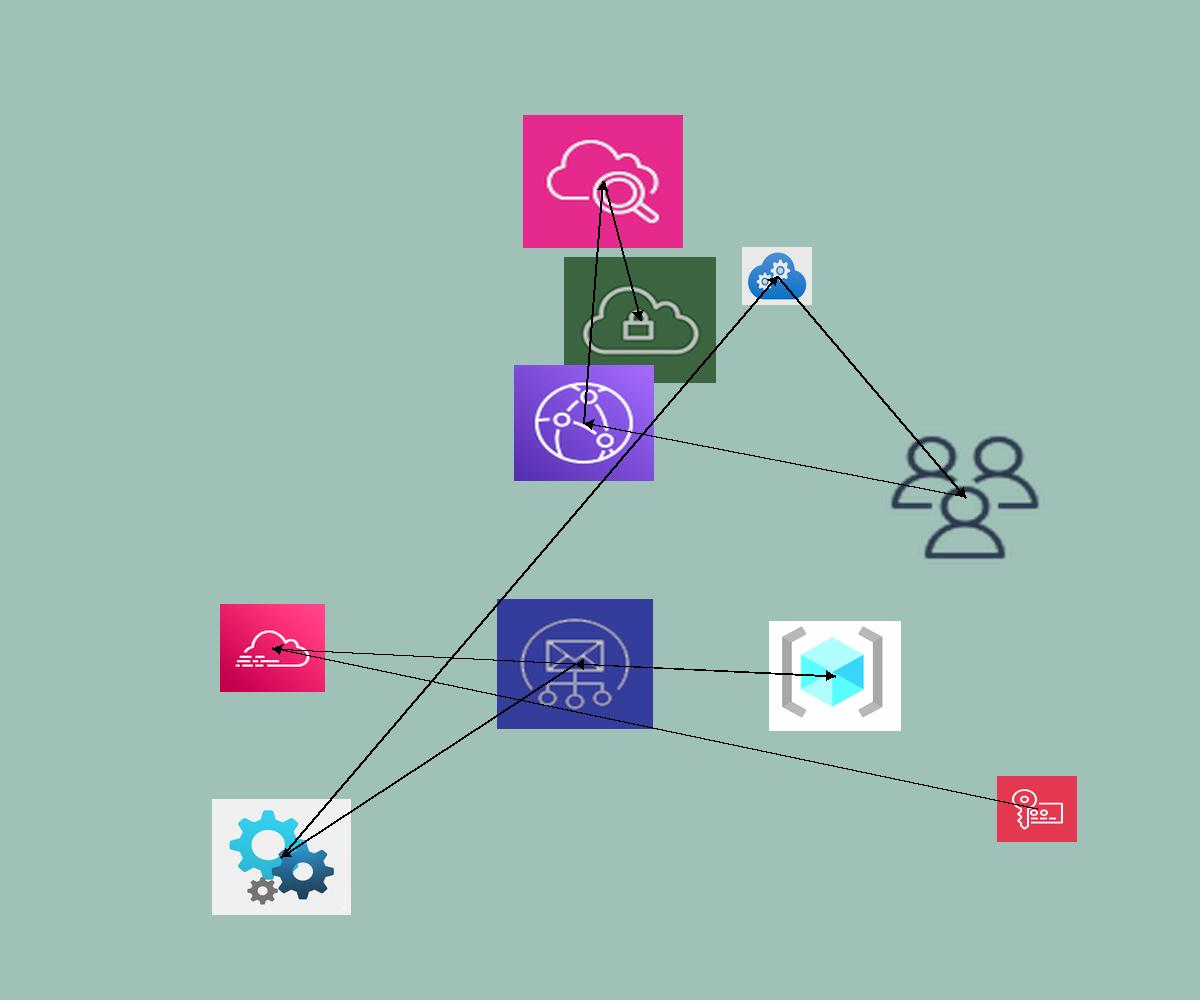AWS-CloudFront: (514, 365, 654, 481)
AWS-CloudTrail: (220, 604, 325, 692)
AWS-CloudWatch: (523, 115, 683, 248)
AWS-Key-Management-Service: (997, 776, 1077, 842)
AWS-Private_vpc: (564, 257, 716, 383)
AWS-Res_Users: (885, 431, 1045, 564)
AWS-Simple-Email-Service: (497, 599, 653, 729)
Azure_api: (212, 799, 351, 915)
Azure_cloud_services: (742, 247, 812, 305)
Azure_resource_group: (769, 621, 901, 731)
